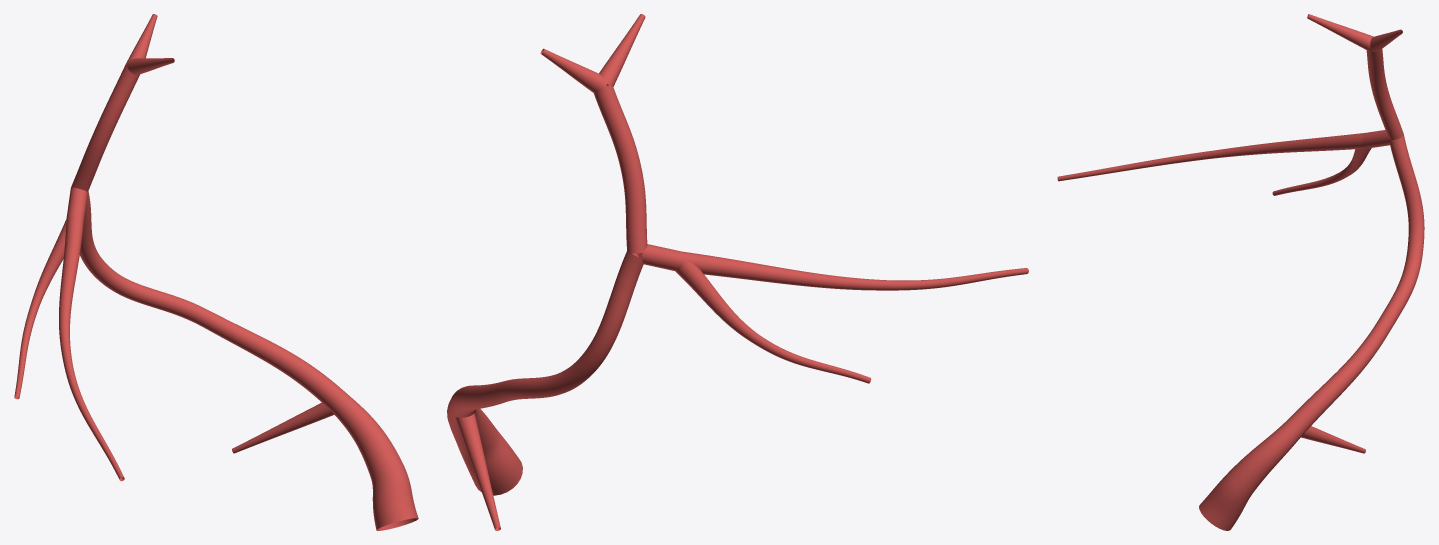
The picture shows the model from 3 angles, left to right: view 1: azimuth 30°, elevation 25°; view 2: azimuth 150°, elevation 25°; view 3: azimuth 270°, elevation 25°; orthographic projection. The views are drawn at different scales.
Parts seen in each view (by area): view 1: 右侧臀上动脉; view 2: 右侧臀上动脉; view 3: 右侧臀上动脉.
Boxes of the visible parts, x1,y1,x2,y2 form: 右侧臀上动脉: [14, 14, 418, 530]; 右侧臀上动脉: [447, 14, 1028, 530]; 右侧臀上动脉: [1057, 14, 1424, 530].
Size of the model in its own units: 0.0712 by 0.0853 by 0.065.
